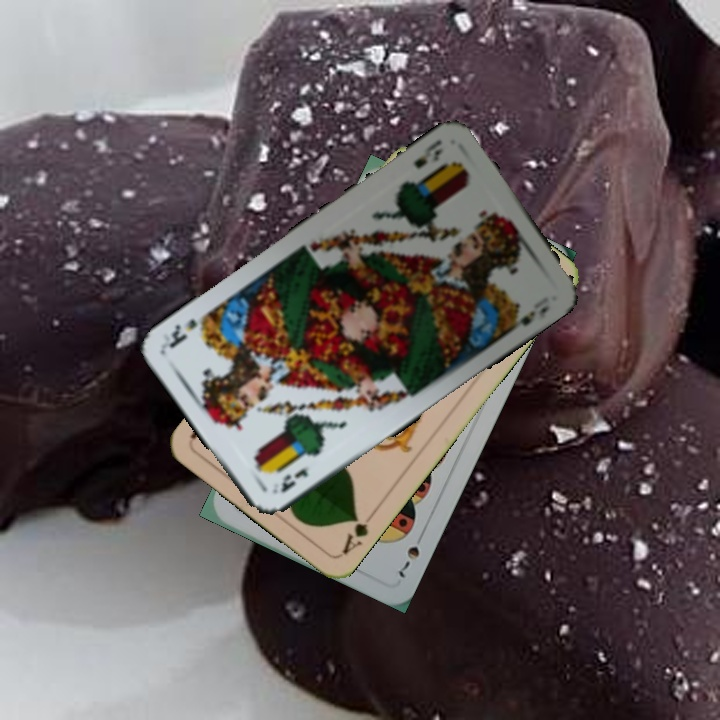EK: (268, 464, 311, 497), (410, 135, 446, 171)
GA: (338, 506, 379, 557)
S7: (392, 542, 423, 580)
